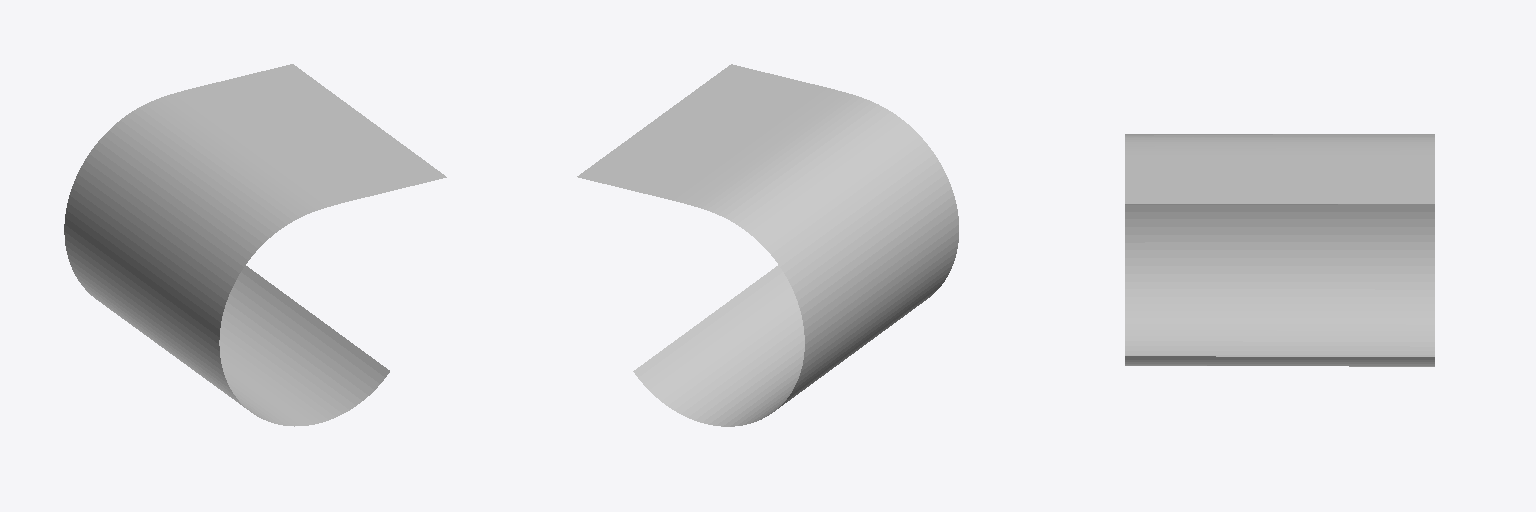
File: CurvePaper_000030.obj
3 renders of one model, left to right at view 1: azimuth 30°, elevation 25°; view 2: azimuth 150°, elevation 25°; view 3: azimuth 270°, elevation 25°, orthographic.
Parts seen in each view (by area): view 1: Plane; view 2: Plane; view 3: Plane.
Part boxes in pixels (x1,y1,x2,y2): Plane: (64, 64, 446, 426); Plane: (577, 64, 958, 426); Plane: (1125, 134, 1434, 366).
Size of the model in its own units: 1.93 by 1.74 by 2.26.